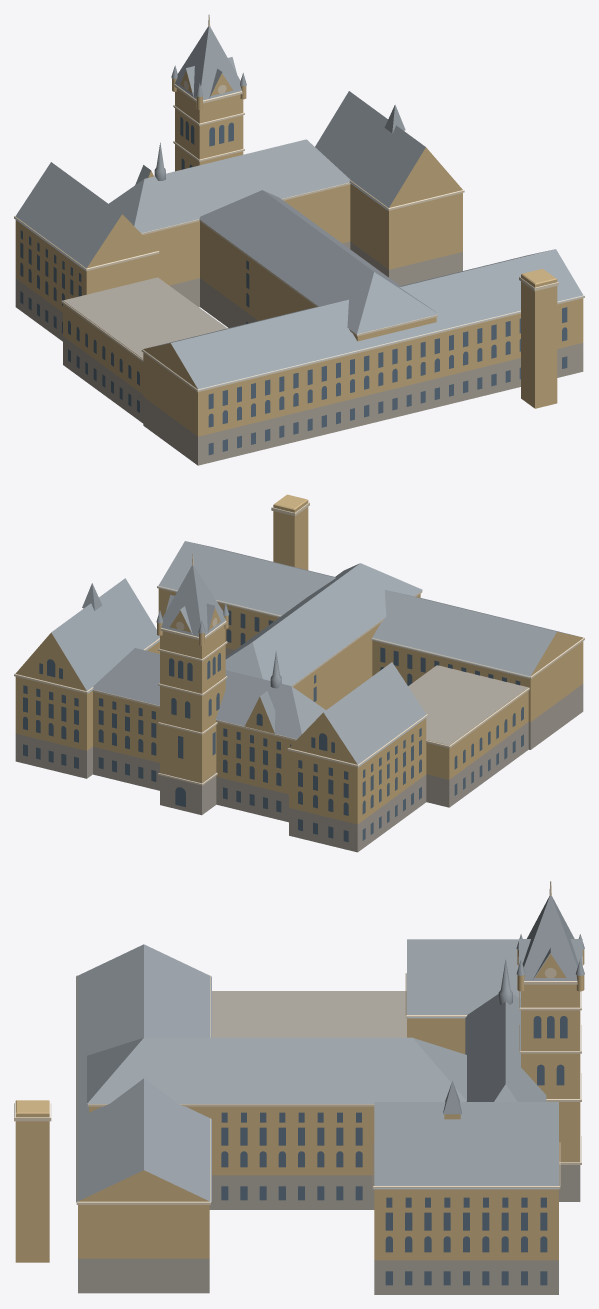
The model's file is det-old-main.glb.
The picture shows the model from 3 angles, top to bottom: view 1: azimuth 30°, elevation 25°; view 2: azimuth 150°, elevation 25°; view 3: azimuth 270°, elevation 25°; orthographic projection. The views are drawn at different scales.
Parts seen in each view (by area): view 1: Old Main, Wayne State University; view 2: Old Main, Wayne State University; view 3: Old Main, Wayne State University.
Boxes of the visible parts, x1,y1,x2,y2 form: Old Main, Wayne State University: (14, 14, 584, 465); Old Main, Wayne State University: (14, 494, 584, 852); Old Main, Wayne State University: (14, 881, 584, 1294).
Size of the model in its own units: 98.85 by 62 by 104.
